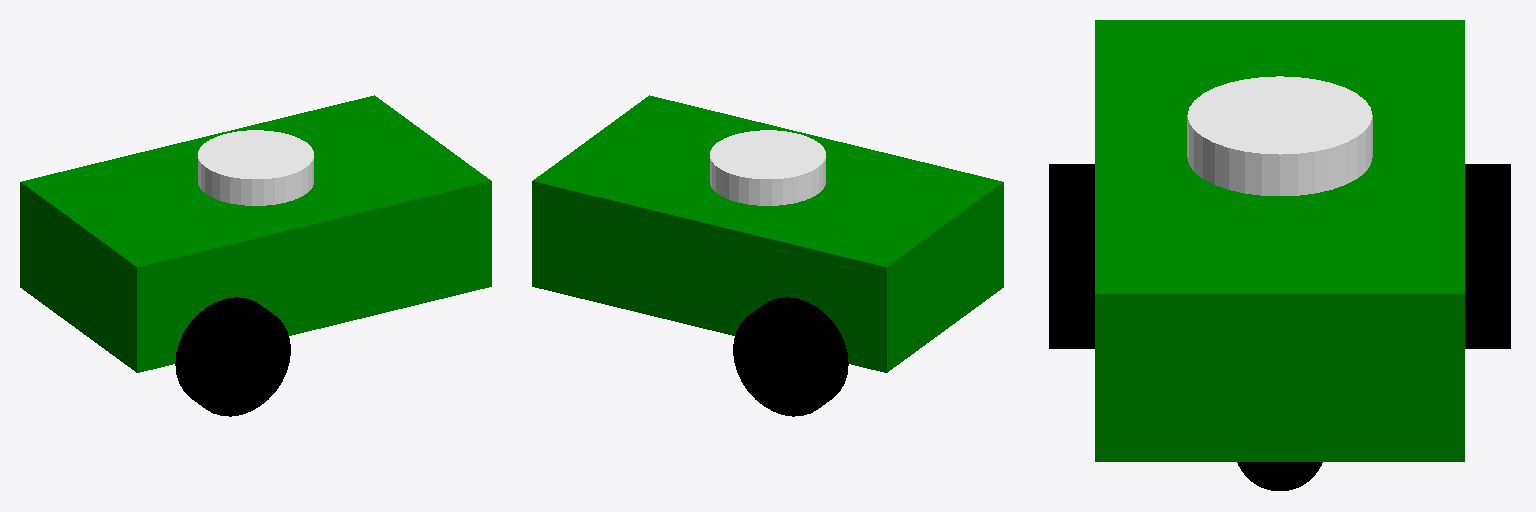
URDF robot description (diff_robot):
<?xml version="1.0"?>
<robot name="diff_robot">


<material name="black">
    <color rgba="0 0 0 1.0"/>
</material>

<material name="grey">
    <color rgba="0.7 0.7 0.7 1.0"/>
</material>

<material name="green">
    <color rgba="0.0 0.6 0 1.0"/>
</material>

<material name="white">
    <color rgba="1 1 1 1.0"/>
</material>

<link name="base_footprint"/>

<link name="base_link">
    <inertial>
        <origin xyz="0.0 0.0 0.0" rpy="0.0 0.0 0.0"/>
        <mass value="0.1"/>
        <inertia ixx="0.001665" ixy="0.0" ixz="0.0" iyy="0.00441225" iyz="0.0" izz="0.00541625"/>
    </inertial>
    <visual>
        <geometry>  
            <box size="0.7 0.4 0.2"/> 
        </geometry>   
        <origin xyz="0.0 0.0 0.1" rpy="0.0 0.0 0.0"/> 
        <material name="green"/>
    </visual>
</link>

<link name="left_wheel">
    <inertial>
        <origin xyz="0.0 0.0 0.0" rpy="0.0 0.0 0.0"/>
        <mass value="0.3"/>
        <inertia ixx="0.00081252" ixy="0.0" ixz="0.0" iyy="0.00081252" iyz="0.0" izz="0.0015"/>
    </inertial>
    <visual>
        <geometry>
            <cylinder radius="0.1" length="0.05"/>
        </geometry>
        <origin xyz="0.0 0.0 0.0" rpy="1.57 0.0 0.0"/>
        <material name="black"/>     
    </visual>
    <collision>
        <geometry>
            <cylinder radius="0.1" length="0.05"/>
        </geometry>
        <origin xyz="0.0 0.0 0.0" rpy="1.57 0.0 0.0"/>
    </collision>
</link>

<link name="right_wheel">
    <inertial>
        <origin xyz="0.0 0.0 0.0" rpy="0.0 0.0 0.0"/>
        <mass value="0.3"/>
        <inertia ixx="0.00081252" ixy="0.0" ixz="0.0" iyy="0.00081252" iyz="0.0" izz="0.0015"/>
    </inertial>
    <visual>
        <geometry>
            <cylinder radius="0.1" length="0.05"/>
        </geometry>
        <origin xyz="0.0 0.0 0.0" rpy="1.57 0.0 0.0"/>
        <material name="black"/>     
    </visual>
    <collision>
        <geometry>
            <cylinder radius="0.1" length="0.05"/>
        </geometry>
        <origin xyz="0.0 0.0 0.0" rpy="1.57 0.0 0.0"/>
    </collision>
</link>

<link name="caster_wheel">
    <inertial>
        <origin xyz="0.0 0.0 0.0" rpy="0.0 0.0 0.0"/>
        <mass value="0.1"/>
        <inertia ixx="0.00016666" ixy="0.0" ixz="0.0" iyy="0.00016666" iyz="0.0" izz="0.00016666"/>
    </inertial>
    <visual>
        <geometry>
            <sphere radius="0.05"/>
        </geometry>
        <origin xyz="0.0 0.0 0.0" rpy="0.0 0.0 0.0"/>
        <material name="black"/>            
    </visual>
    <collision>
        <geometry>
            <sphere radius="0.05"/>
        </geometry>
        <origin xyz="0.0 0.0 0.0" rpy="0.0 0.0 0.0"/>
    </collision>
</link>

<link name="imu_link">
    <visual>
      <origin rpy="0 0 0" xyz="0 0 0.0"/>
      <geometry>
        <box size="0.01 0.01 0.01"/>
      </geometry>
    </visual>
  </link>

  <link name="lidar_link">
    <visual>
        <geometry>      
            <cylinder radius="0.1" length="0.05"/>
        </geometry>
        <origin xyz="0.0 0.0 0.0" rpy="0.0 0.0 0.0"/>
        <material name="white"/>  
    </visual>
    <collision>
        <geometry>
            <cylinder radius="0.05" length="0.05"/>
        </geometry>
        <origin xyz="0.0 0.0 0.0" rpy="0.0 0.0 0.0"/>
    </collision>
    <inertial>
        <mass value="0.114" />
        <origin xyz="0 0 0" />
        <inertia ixx="0.001" ixy="0.0" ixz="0.0"
                 iyy="0.001" iyz="0.0"
                 izz="0.001" />
      </inertial>
</link>

<link name="camera_link">
    <visual>
        <geometry>
            <box size="0.025 0.09 0.025"/>
        </geometry>
        <material name="grey"/>
    </visual>
    <collision>
        <geometry>
            <box size="0.025 0.09 0.025"/>
        </geometry>
    </collision>
    <inertial>
        <mass value="0.035"/>
        <inertia ixx="0.001" ixy="0" ixz="0" iyy="0.001" iyz="0" izz="0.001"/>
    </inertial>
</link>


<joint name="imu_joint" type="fixed">
    <parent link="base_footprint"/>
    <child link="imu_link"/>
    <origin xyz="0.1 0.1 0.1" rpy="0.0 0.0 0.0"/>
</joint>

<joint name="base_joint" type="fixed">
    <parent link="base_link"/>
    <child link="base_footprint"/>
    <origin xyz="0.0 0.0 0.05" rpy="0.0 0.0 0.0"/>
</joint>

<joint name="base_lidar_joint" type="fixed">
    <parent link="base_link"/>
    <child link="lidar_link"/>
    <origin xyz="0.0 0.0 0.225" rpy="0.0 0.0 0.0"/>
</joint>

<joint name="left_wheel_joint" type="continuous">
    <parent link="base_link"/>
    <child link="left_wheel"/>
    <origin xyz="-0.175 0.225 0.0" rpy="0 0.0 0.0"/>  
    <axis xyz="0.0 1.0 0.0"/>
    <dynamics damping="0.2" friction="1.0"/>
    <limit effort="100" velocity="1.0"/>
</joint>
<joint name="right_wheel_joint" type="continuous">
    <parent link="base_link"/>
    <child link="right_wheel"/>
    <origin xyz="-0.175 -0.225 0.0" rpy="0 0.0 0.0"/>  
    <axis xyz="0.0 1.0 0.0"/>
    <dynamics damping="0.2" friction="1.0"/>
    <limit effort="100" velocity="1.0"/>
</joint>

<joint name="caster_wheel_joint" type="fixed">
    <parent link="base_link"/>
    <child link="caster_wheel"/>
    <dynamics damping="0.2" friction="0.1"/>
    <origin xyz="0.2 0.0 -0.05" rpy="0.0 0.0 0.0"/>
</joint>

<joint name="camera_joint" type="fixed">
    <parent link="base_link"/>
    <child link="camera_link"/>
    <origin xyz="0.325 0 0.15" rpy="0 0 0"/>
</joint>


<gazebo>
    <plugin name="diff_drive" filename="libgazebo_ros_diff_drive.so">
        <!-- wheel info -->
        <left_joint>left_wheel_joint</left_joint>
        <right_joint>right_wheel_joint</right_joint>
        <wheel_separation>0.60</wheel_separation>
        <wheel_diameter>0.58</wheel_diameter>

        <!-- Limits -->
        <max_wheel_torque>200</max_wheel_torque>
        <max_wheel_acceleration>10.0</max_wheel_acceleration>

        <!-- Output -->
        <odometry_frame>odom</odometry_frame>
        <robot_base_frame>base_link</robot_base_frame>

        <publish_odom>true</publish_odom>
        <publish_odom_tf>true</publish_odom_tf>
        <publish_wheel_tf>true</publish_wheel_tf>
    </plugin>
</gazebo>

<gazebo reference="imu_link">
    <sensor name="imu" type="imu">
        <always_on>true</always_on>
        <update_rate>5</update_rate>
        <plugin name="imu_plugin" filename="libgazebo_ros_imu_sensor.so">
            <ros>
                <remapping>~/out:=imu</remapping>
            </ros>
        </plugin>
    </sensor>
</gazebo>

  <gazebo reference="lidar_link">
    <sensor name="laser" type="ray">
        <pose> 0 0 0 0 0 0 </pose>
        <visualize>true</visualize>
        <update_rate>10</update_rate>
        <ray>
            <scan>
                <horizontal>
                    <samples>720</samples>
                    <min_angle>-3.14</min_angle>
                    <max_angle>3.14</max_angle>
                </horizontal>
            </scan>
            <range>
                <min>0.1</min>
                <max>12</max>
            </range>
        </ray>
        <plugin name="laser_controller" filename="libgazebo_ros_ray_sensor.so">
            <ros>
                <argument>~/out:=scan</argument>
            </ros>
            <output_type>sensor_msgs/LaserScan</output_type>
            <frame_name>lidar_link</frame_name>
        </plugin>
    </sensor>
</gazebo>


<gazebo>
    <plugin name="diff_robot_joint_state" filename="libgazebo_ros_joint_state_publisher.so">
        <ros>
          <!-- <namespace>/tb3</namespace> -->
          <remapping>~/out:=joint_states</remapping>
        </ros>
        <update_rate>30</update_rate>
        <joint_name>left_wheel_joint</joint_name>
        <joint_name>right_wheel_joint</joint_name>
      </plugin>
    </gazebo>

<gazebo reference="base_link">
    <material>Gazebo/Green</material>
</gazebo>
<gazebo reference="right_wheel">
    <material>Gazebo/Black</material>
</gazebo>
<gazebo reference="left_wheel">
    <material>Gazebo/Black</material>
</gazebo>
<gazebo reference="caster_wheel">
    <material>Gazebo/Black</material>
</gazebo>
<gazebo reference="camera_link">
    <material>Gazebo/Grey</material>
    <sensor name="camera" type="depth">
        <update_rate>30</update_rate>
        <camera>
            <horizontal_fov>1.047198</horizontal_fov>
            <image>
                <width>640</width>
                <height>480</height>
                <format>R8G8B8</format>
            </image>
            <clip>
                <near>0.05</near>
                <far>3</far>
            </clip>
        </camera>
        <plugin name="camera_controller" filename="libgazebo_ros_camera.so">
            <frame_name>camera_link</frame_name>
            <min_depth>0.1</min_depth>
            <max_depth>3.0</max_depth>
            <ros>
                <namespace>/camera</namespace>
                <remapping>image_raw:=color/image_raw</remapping>
                <remapping>camera_info:=color/camera_info</remapping>
                <remapping>points:=depth/points</remapping>
            </ros>
        </plugin>
    </sensor>
</gazebo>


</robot>

--- What the picture shows (computed from the rendered views, not written in the file) ---
Views: 3 orthographic renders of the robot side by side, from view 1: azimuth 30°, elevation 25°; view 2: azimuth 150°, elevation 25°; view 3: azimuth 270°, elevation 25°.
Model diff_robot with 8 links and 7 joints (2 continuous, 5 fixed), rooted at base_link, posed every joint at zero.
Links seen in each view (by area): view 1: base_link, right_wheel, lidar_link; view 2: base_link, left_wheel, lidar_link; view 3: base_link, lidar_link, left_wheel, right_wheel, caster_wheel.
Link boxes in pixels (bbox=[...]): base_link: bbox=[20, 95, 491, 372]; right_wheel: bbox=[175, 297, 290, 416]; lidar_link: bbox=[198, 130, 313, 205]; base_link: bbox=[532, 95, 1003, 372]; left_wheel: bbox=[733, 297, 848, 416]; lidar_link: bbox=[710, 130, 825, 205]; base_link: bbox=[1095, 20, 1464, 461]; lidar_link: bbox=[1187, 76, 1372, 195]; left_wheel: bbox=[1465, 164, 1510, 348]; right_wheel: bbox=[1049, 164, 1094, 348]; caster_wheel: bbox=[1237, 462, 1322, 490].
Bounding box of the posed robot: 0.7 × 0.5002 × 0.35 m (x, y, z).
Geometry: primitives only (box / cylinder / sphere), no mesh files.
